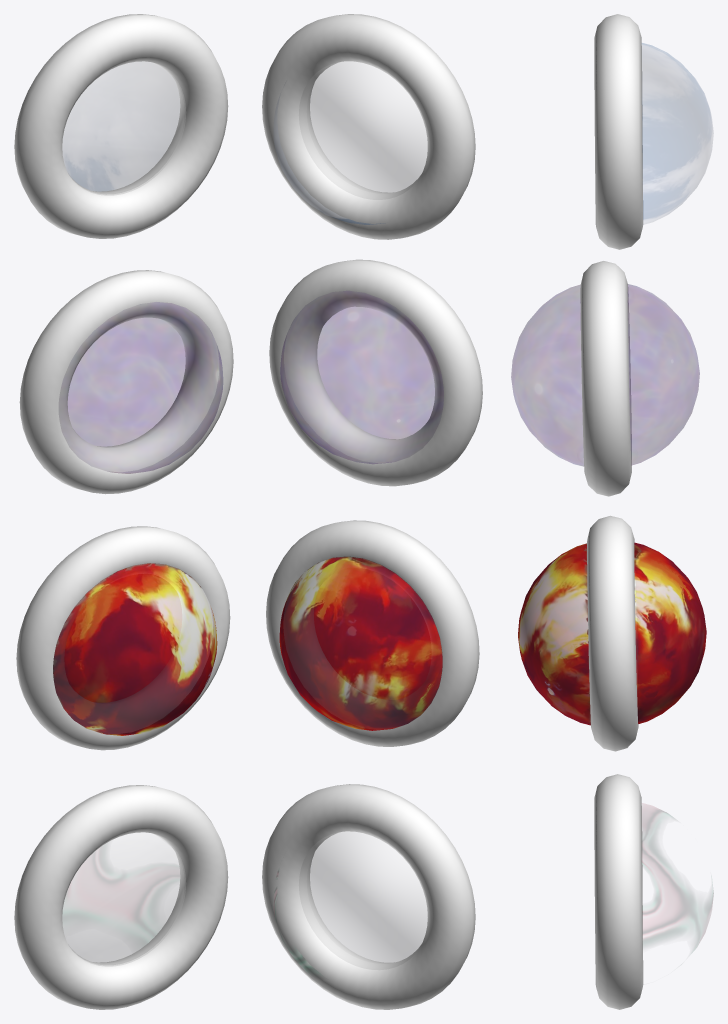
The model's file is lookingthroughandbeyond.glb.
3 views of the same model, side by side, from view 1: azimuth 30°, elevation 25°; view 2: azimuth 150°, elevation 25°; view 3: azimuth 270°, elevation 25° (orthographic).
Visible parts, largest first — view 1: Torus.007, Sphere.005, Sphere.004, Circle.002, Circle.003; view 2: Torus.007, Sphere.005, Sphere.004, Circle.002, Circle.003, Sphere.007; view 3: Torus.007, Sphere.005, Sphere.004, Sphere.007, Sphere.006.
Part boxes in pixels (bbox=[...]): Torus.007: bbox=[14, 14, 233, 1009]; Sphere.005: bbox=[53, 563, 217, 735]; Sphere.004: bbox=[59, 302, 222, 473]; Circle.002: bbox=[62, 832, 185, 966]; Circle.003: bbox=[62, 61, 185, 195]; Torus.007: bbox=[262, 14, 482, 1009]; Sphere.005: bbox=[279, 556, 442, 730]; Sphere.004: bbox=[280, 291, 443, 463]; Circle.002: bbox=[299, 831, 427, 969]; Circle.003: bbox=[299, 61, 427, 199]; Sphere.007: bbox=[273, 97, 380, 224]; Torus.007: bbox=[580, 14, 643, 1009]; Sphere.005: bbox=[518, 542, 706, 725]; Sphere.004: bbox=[511, 284, 699, 466]; Sphere.007: bbox=[642, 43, 713, 224]; Sphere.006: bbox=[642, 803, 713, 949].
Size of the model in its own units: 0.236 by 1.07 by 0.2018.
6 materials, 4 textured.
